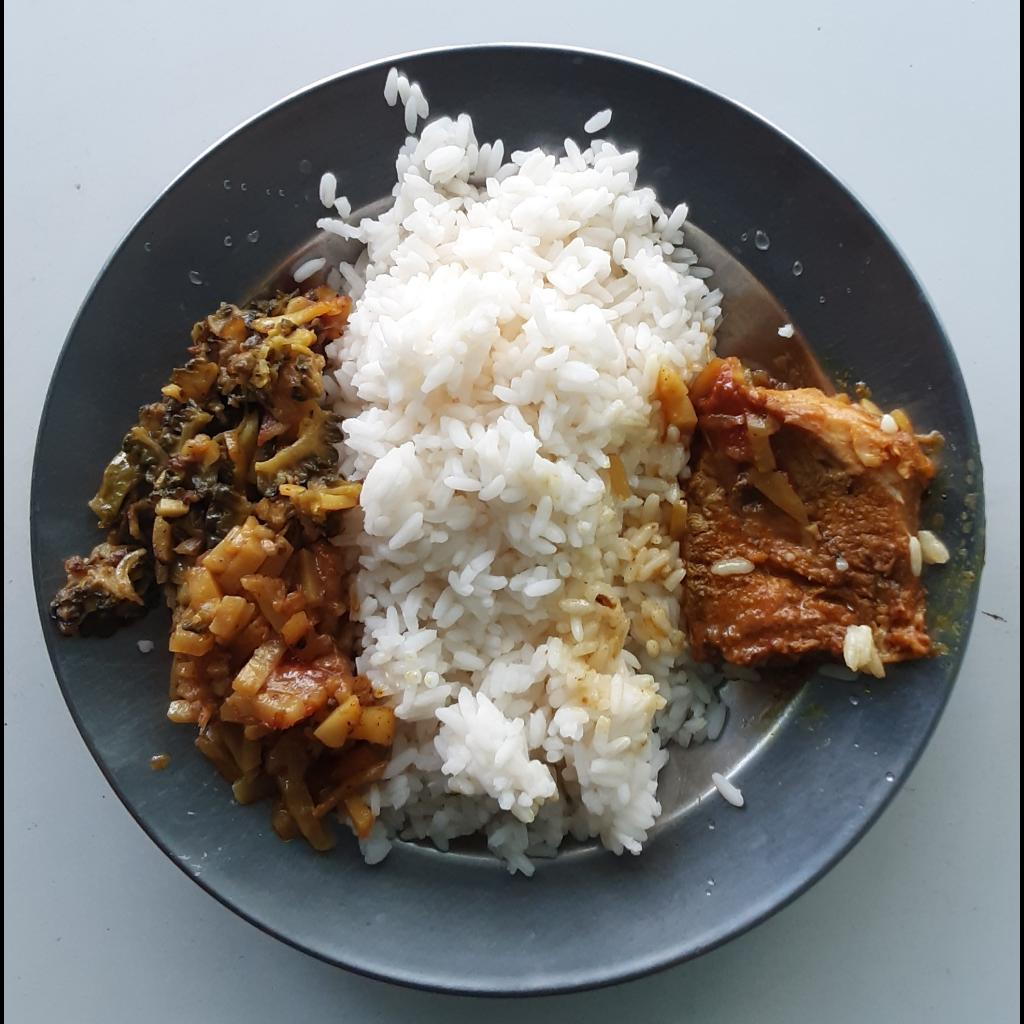fish: (684, 355, 950, 658)
korola-vaji: (48, 268, 352, 631)
potato: (167, 466, 407, 850)
rice: (293, 67, 755, 874)
